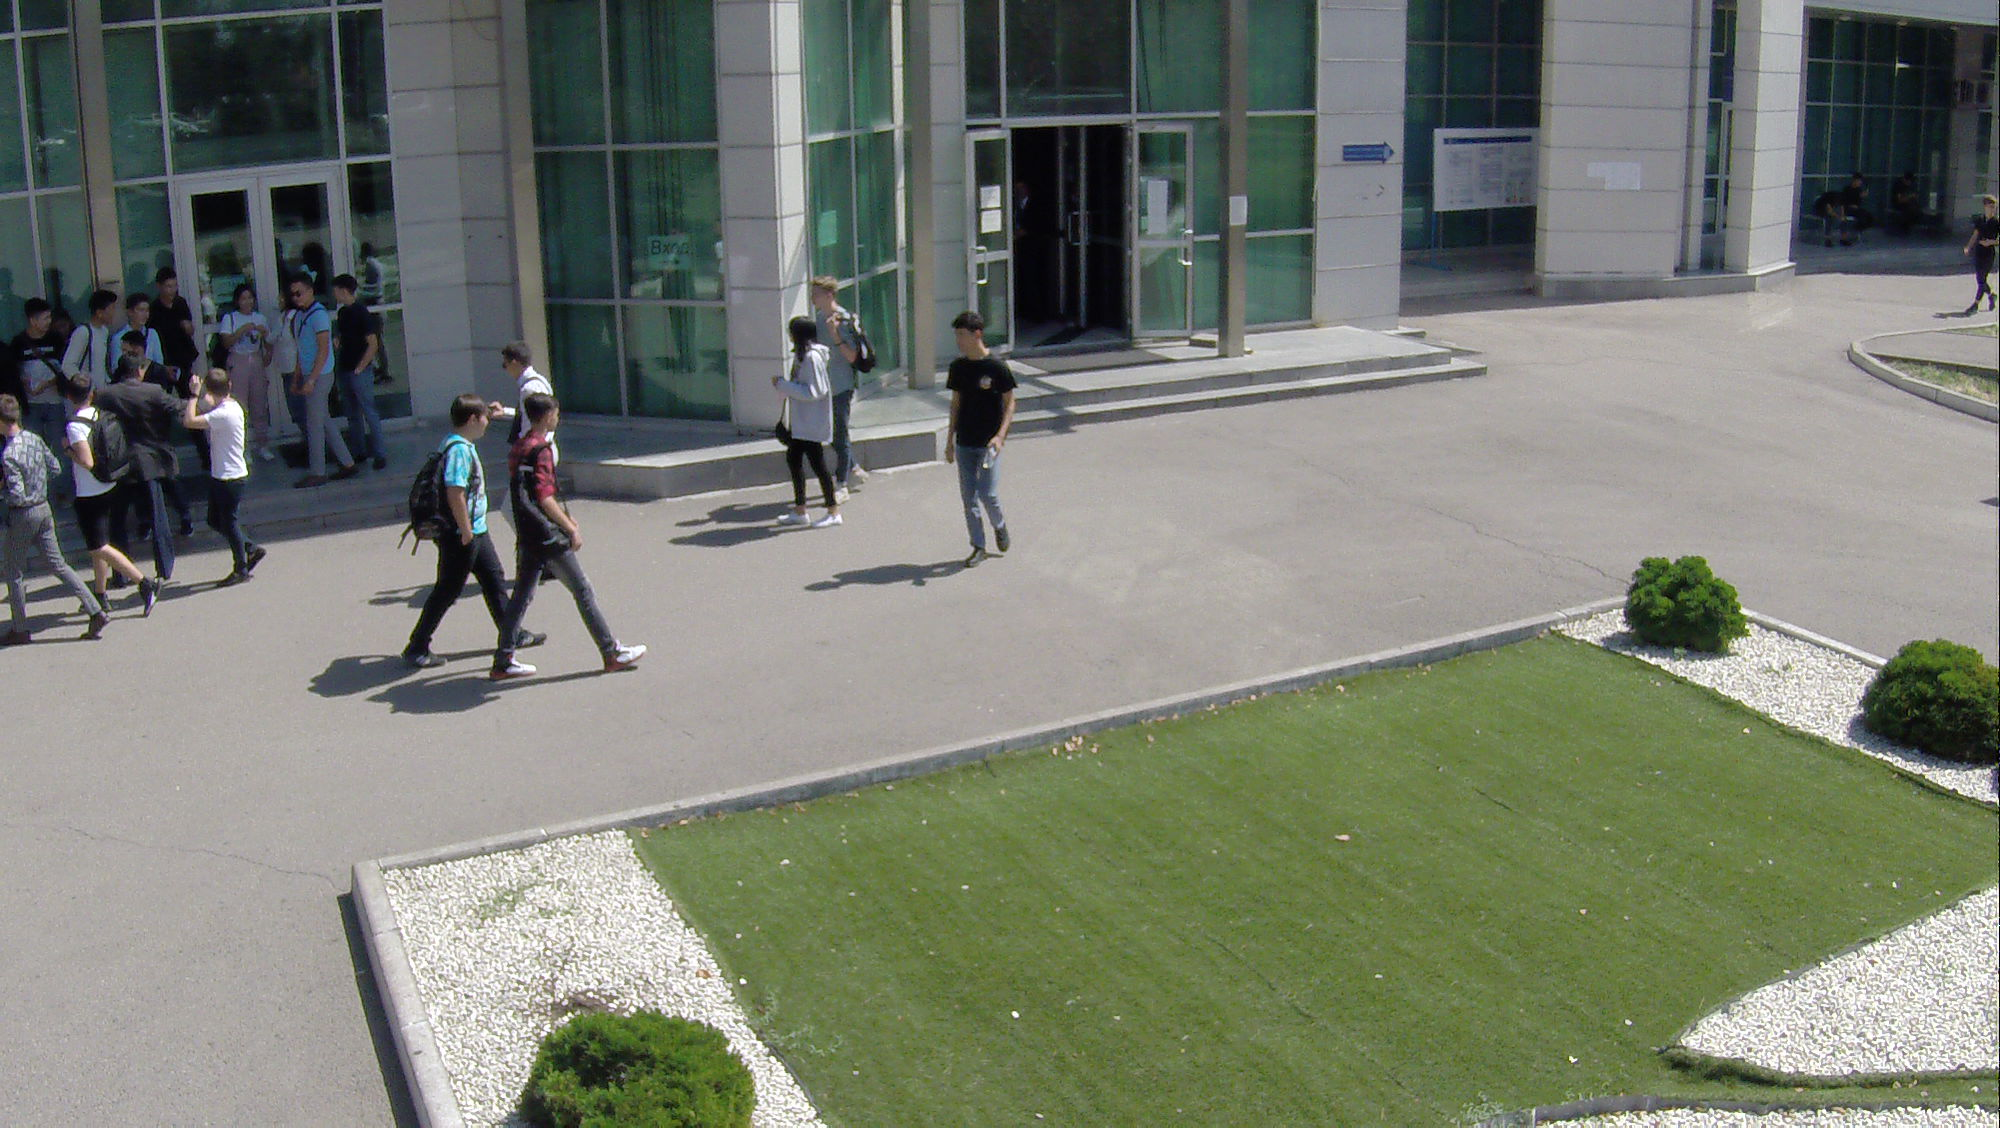person: (497, 384, 653, 685), (409, 383, 528, 685), (58, 360, 167, 641), (1, 378, 106, 659), (920, 305, 1028, 568), (191, 365, 274, 599), (761, 314, 844, 531), (810, 271, 878, 515), (286, 263, 343, 496), (339, 259, 391, 477), (220, 288, 278, 462), (11, 288, 59, 417), (492, 337, 552, 427), (72, 276, 115, 387), (153, 258, 193, 373), (1964, 199, 2000, 310), (118, 294, 158, 363)
